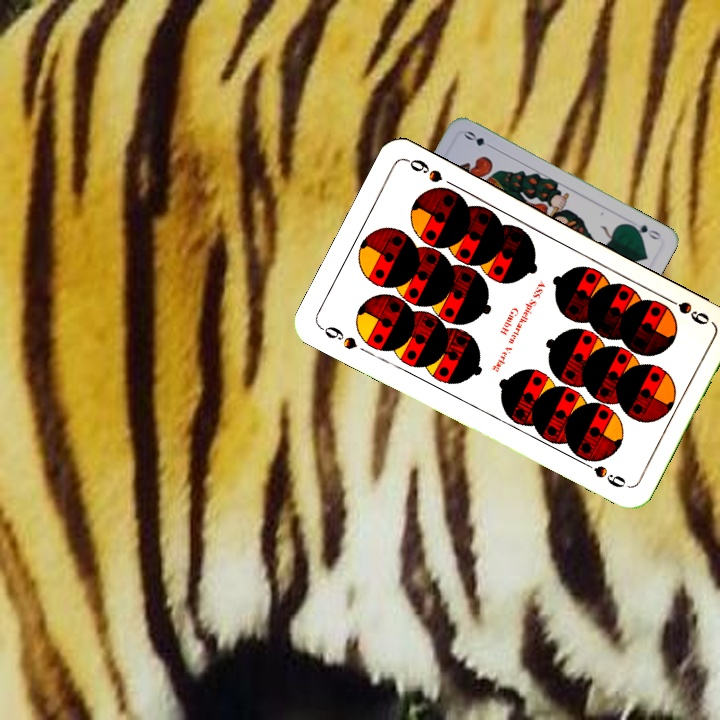GO: (625, 220, 663, 242)
S9: (658, 292, 712, 328), (316, 322, 360, 352)
